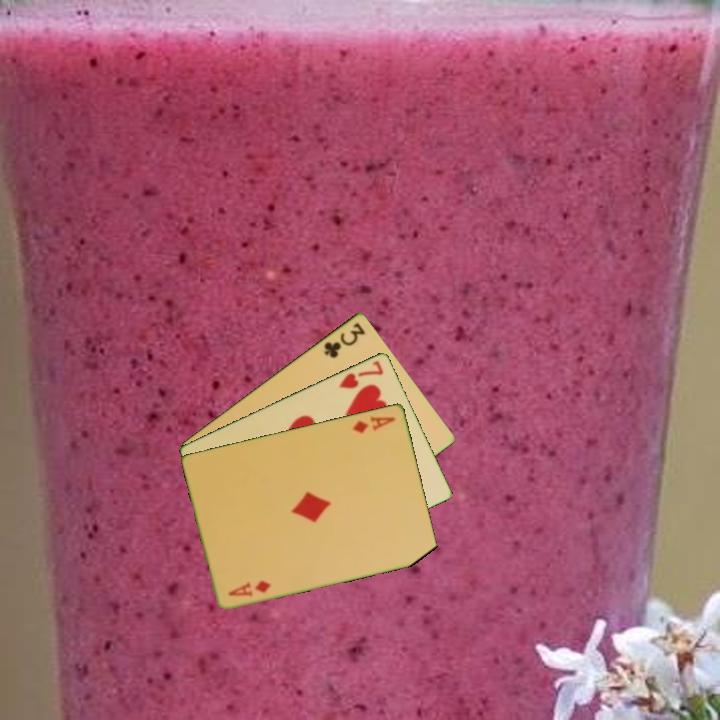3c: (320, 318, 368, 361)
7h: (336, 357, 386, 391)
Ad: (349, 412, 398, 436), (224, 577, 274, 599)
